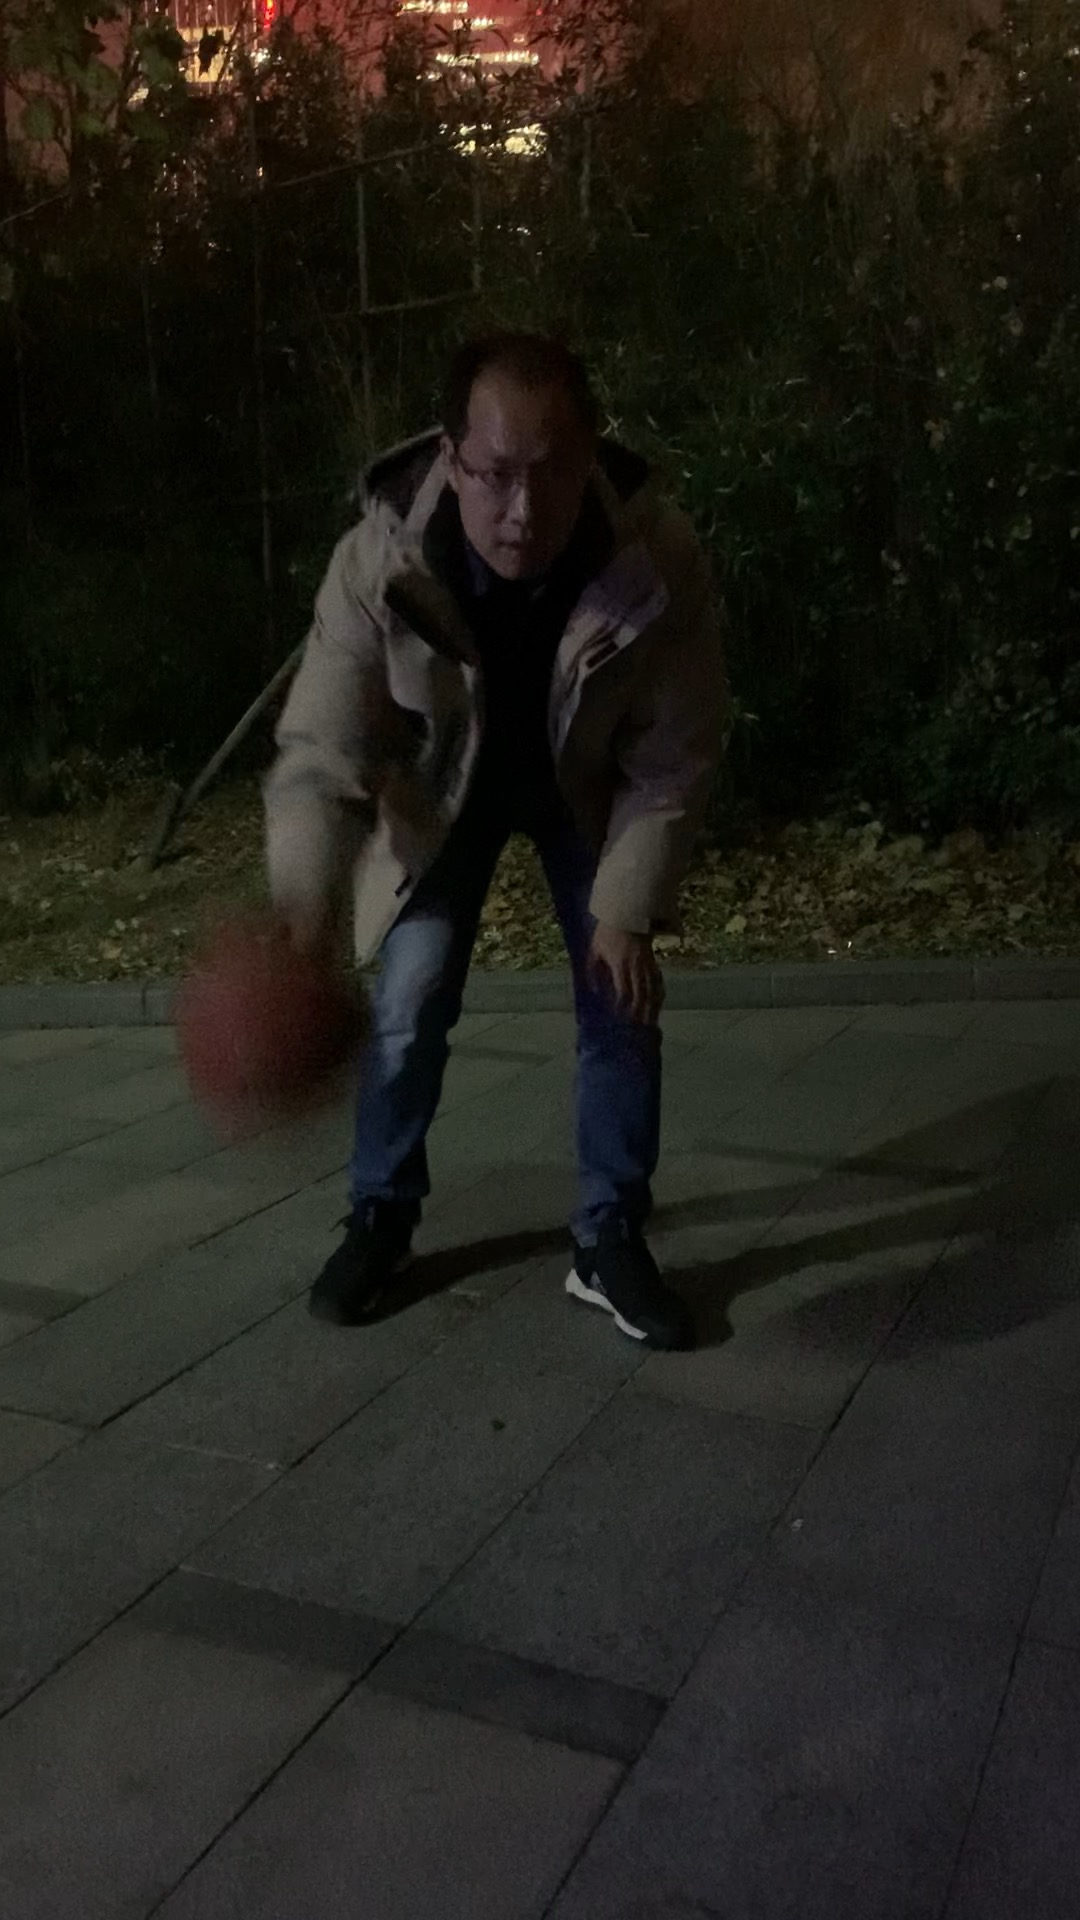ball: (179, 942, 367, 1125)
